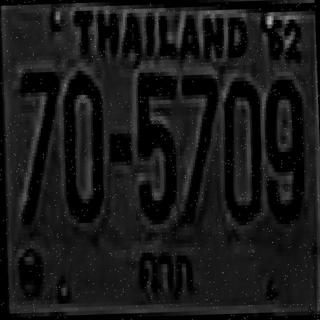N00: (62, 68, 105, 217), (218, 75, 262, 220)
N05: (132, 68, 178, 217)
N07: (17, 68, 62, 221), (178, 70, 221, 219)
N09: (262, 75, 305, 220)
P69: (136, 244, 196, 300)
